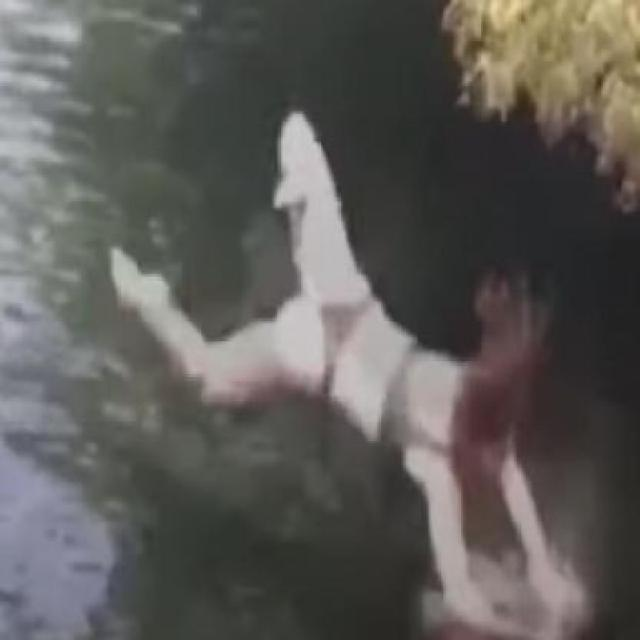fall: (106, 110, 580, 638)
